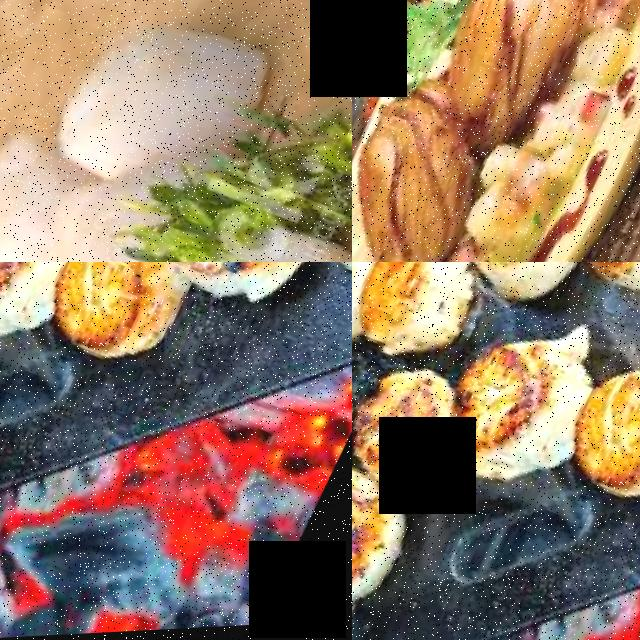sea scallops: (52, 0, 276, 204), (442, 311, 617, 496), (37, 262, 195, 386), (352, 348, 471, 497), (352, 262, 487, 373), (0, 123, 96, 262), (352, 458, 426, 627), (557, 375, 640, 525), (131, 262, 350, 311), (0, 262, 96, 357), (456, 262, 597, 311)
